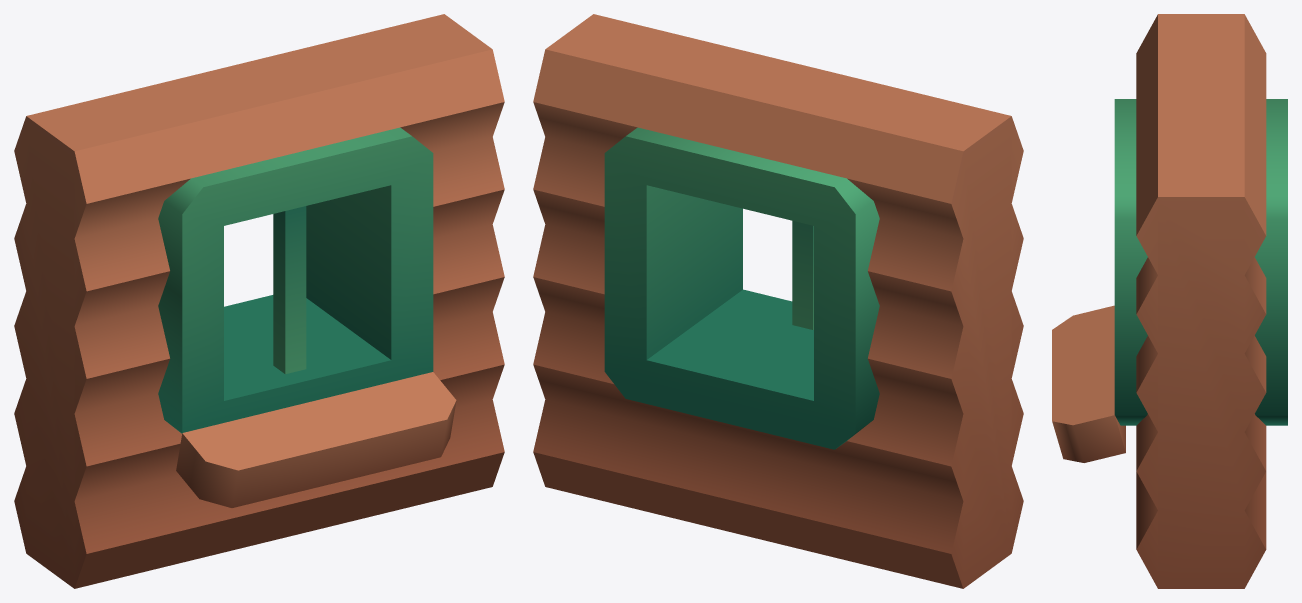
File: cabin-window-b.glb
3 renders of one model, left to right at view 1: azimuth 30°, elevation 25°; view 2: azimuth 150°, elevation 25°; view 3: azimuth 270°, elevation 25°, orthographic. The views are drawn at different scales.
Parts seen in each view (by area): view 1: cabin-window-b; view 2: cabin-window-b; view 3: cabin-window-b.
Boxes of the visible parts, box(x1,y1,x2,y2) form: cabin-window-b: box(14, 14, 504, 588); cabin-window-b: box(533, 14, 1023, 588); cabin-window-b: box(1052, 14, 1287, 588).
Bounding box in the file's own units: 1 × 1 × 0.5449.
